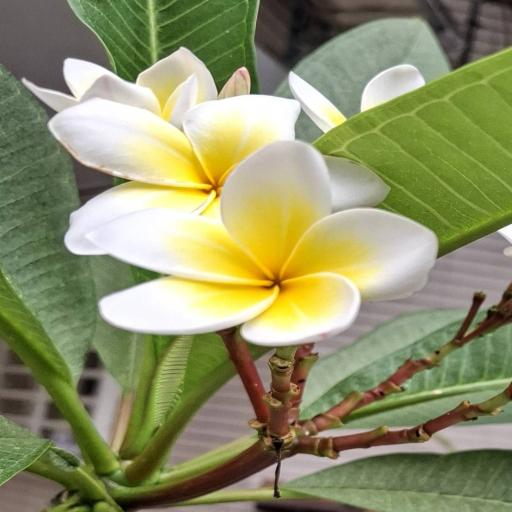Frangipani: (76, 141, 453, 355)
